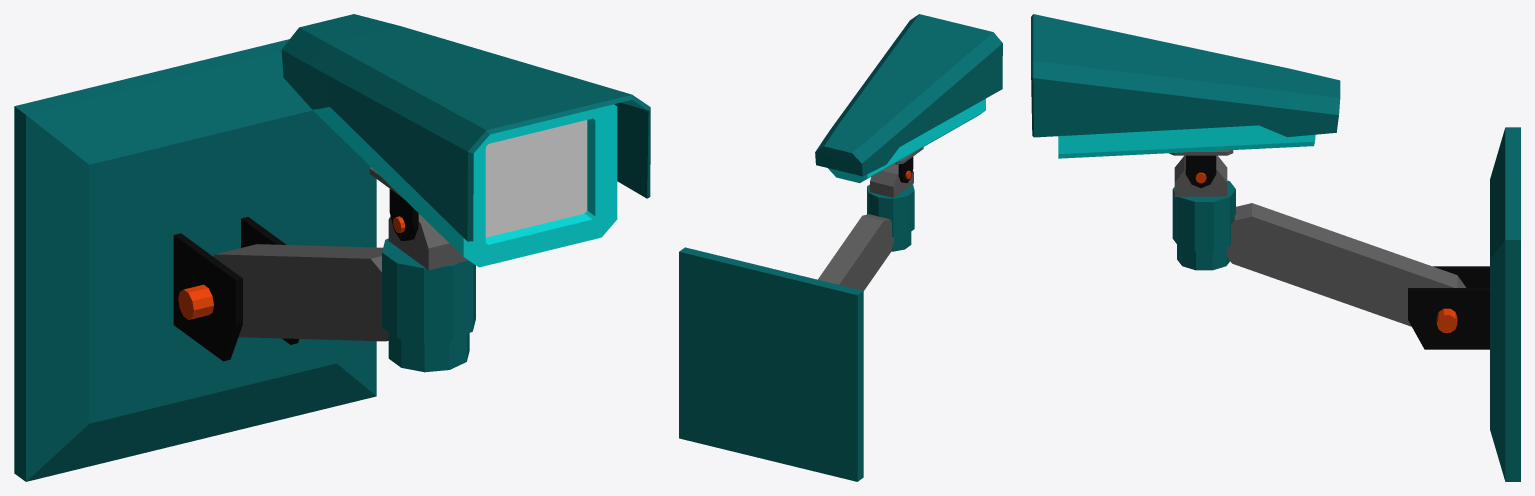
File: SecurityCamera.fbx
The picture shows the model from 3 angles, left to right: view 1: azimuth 30°, elevation 25°; view 2: azimuth 150°, elevation 25°; view 3: azimuth 270°, elevation 25°; orthographic projection. The views are drawn at different scales.
Parts seen in each view (by area): view 1: Base, Camara.001, Camara, Brazo, Base Giratoria, Maniguetas, Casco giratorio, Tornillo, Manigueta 2; view 2: Base, Camara.001, Brazo, Base Giratoria, Camara, Casco giratorio; view 3: Camara.001, Brazo, Base, Camara, Maniguetas, Base Giratoria, Casco giratorio, Manigueta 2.
Part boxes in pixels (x1,y1,x2,y2): Base: [14, 39, 376, 481]; Camara.001: [281, 14, 650, 241]; Camara: [307, 104, 617, 267]; Brazo: [214, 244, 388, 341]; Base Giratoria: [382, 238, 475, 372]; Maniguetas: [173, 217, 299, 361]; Casco giratorio: [388, 213, 468, 270]; Tornillo: [178, 284, 213, 319]; Manigueta 2: [389, 189, 418, 241]; Base: [679, 247, 863, 481]; Camara.001: [815, 14, 1002, 176]; Brazo: [818, 214, 893, 290]; Base Giratoria: [867, 184, 914, 251]; Camara: [828, 98, 985, 183]; Casco giratorio: [870, 164, 913, 197]; Camara.001: [1031, 14, 1340, 137]; Brazo: [1226, 203, 1466, 326]; Base: [1490, 127, 1520, 481]; Camara: [1058, 125, 1315, 158]; Maniguetas: [1408, 266, 1489, 349]; Base Giratoria: [1172, 180, 1235, 270]; Casco giratorio: [1174, 155, 1227, 196]; Manigueta 2: [1185, 155, 1216, 187].
Bounding box in the file's own units: 46.32 × 74.3 × 85.
